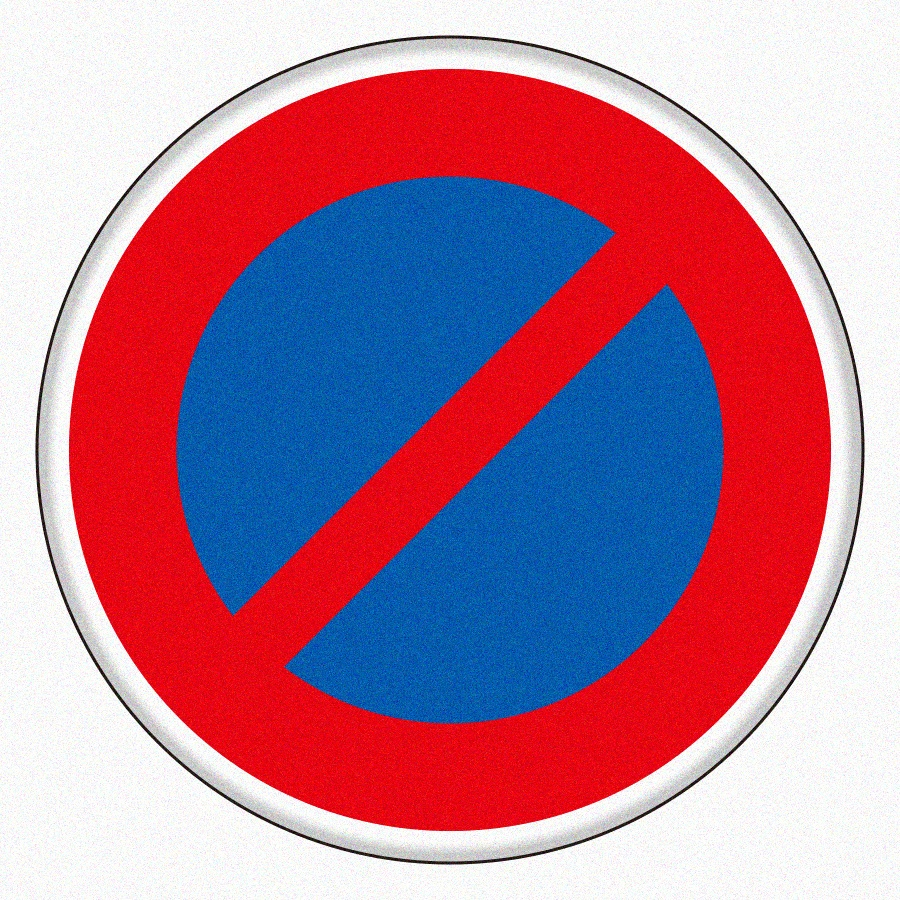Prohibition_sign: (26, 23, 875, 875)
